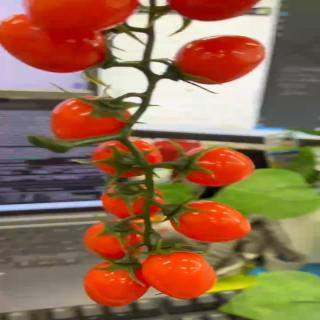tomato: (0, 18, 111, 76), (172, 36, 270, 86), (26, 0, 135, 41), (49, 97, 133, 144), (140, 251, 217, 301), (171, 200, 254, 243), (174, 144, 257, 187), (82, 261, 150, 308), (90, 136, 162, 178), (82, 221, 147, 262), (102, 181, 167, 220), (165, 0, 267, 22)
